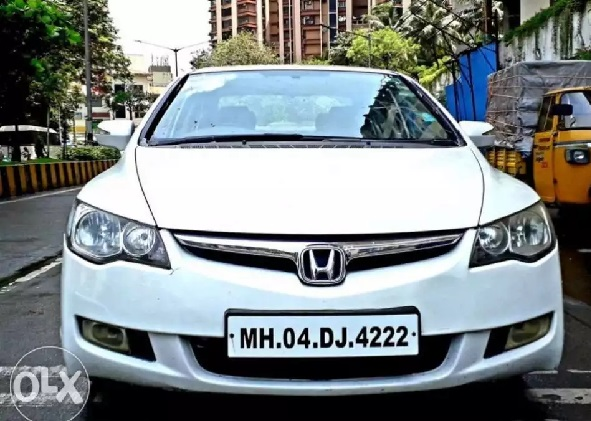licenseplate: (222, 311, 424, 361)
